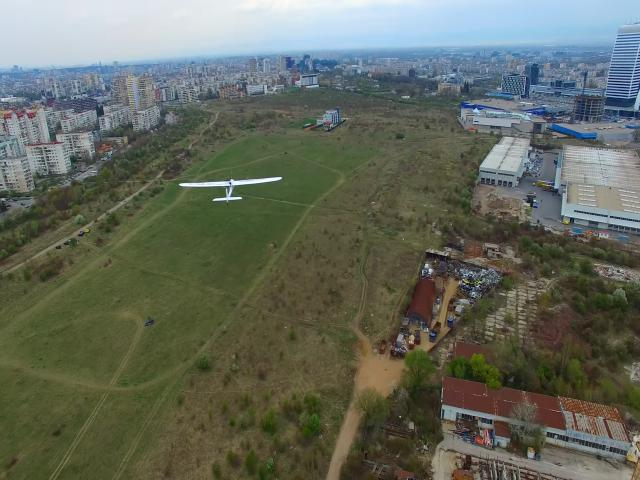plane: (180, 176, 281, 203)
